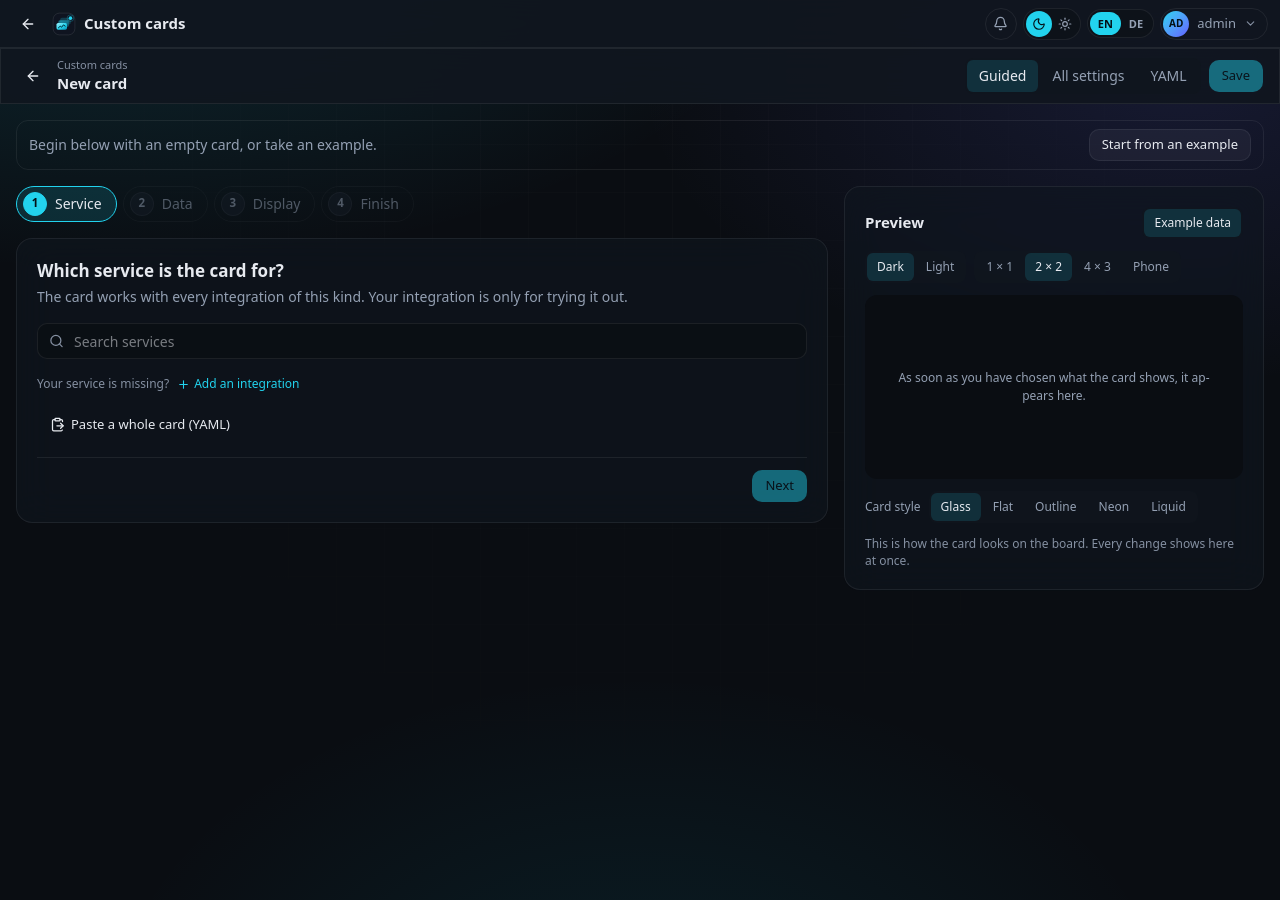
Test: karten19 ac4: the card editor › opens the choice as a new draft with the checked text, installs and saves nothing
Click the button "Start from an example". click: [1170, 145]
box: [1089,129,1251,161]
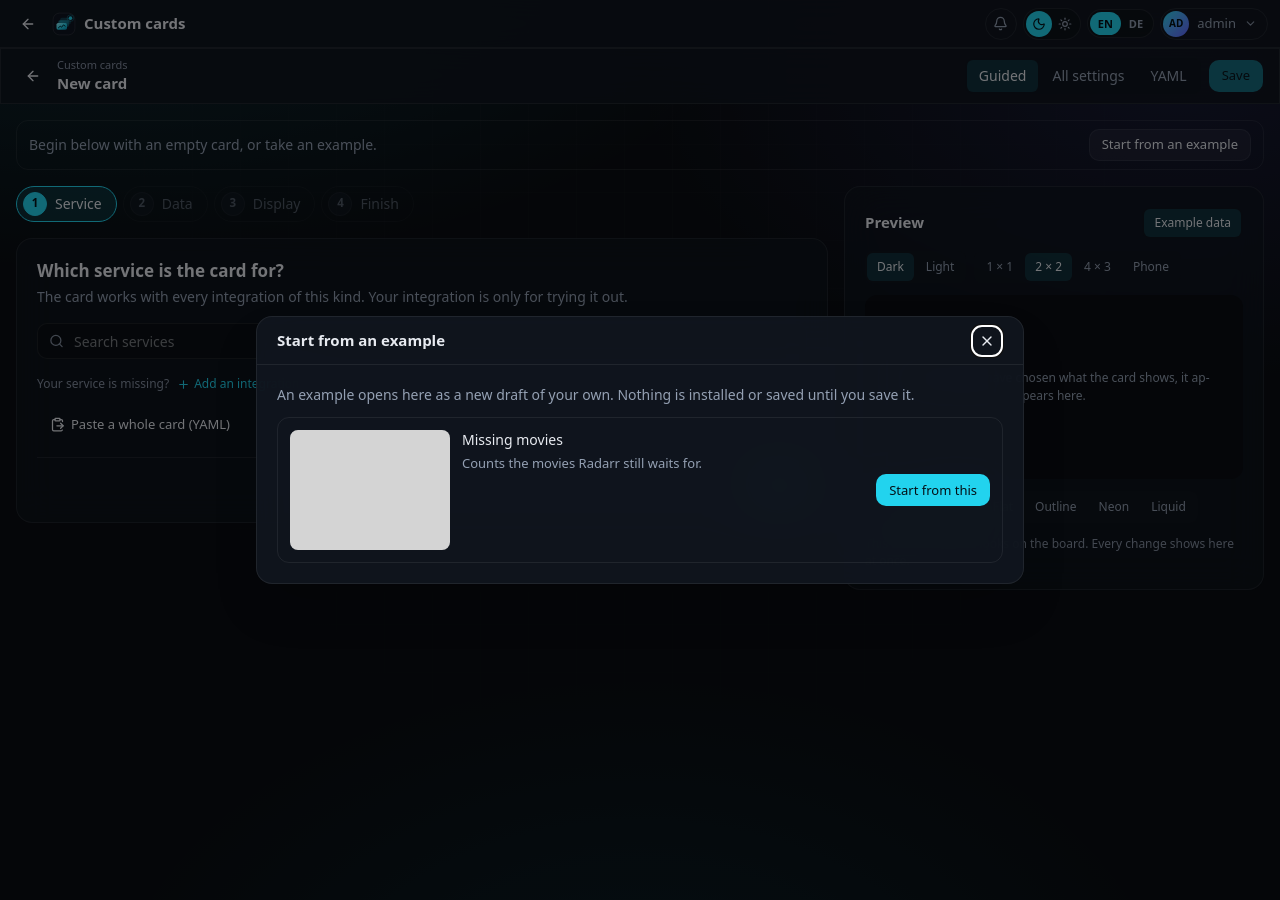
Click the button "Start from this". click: [933, 490]
box: [876,474,990,506]
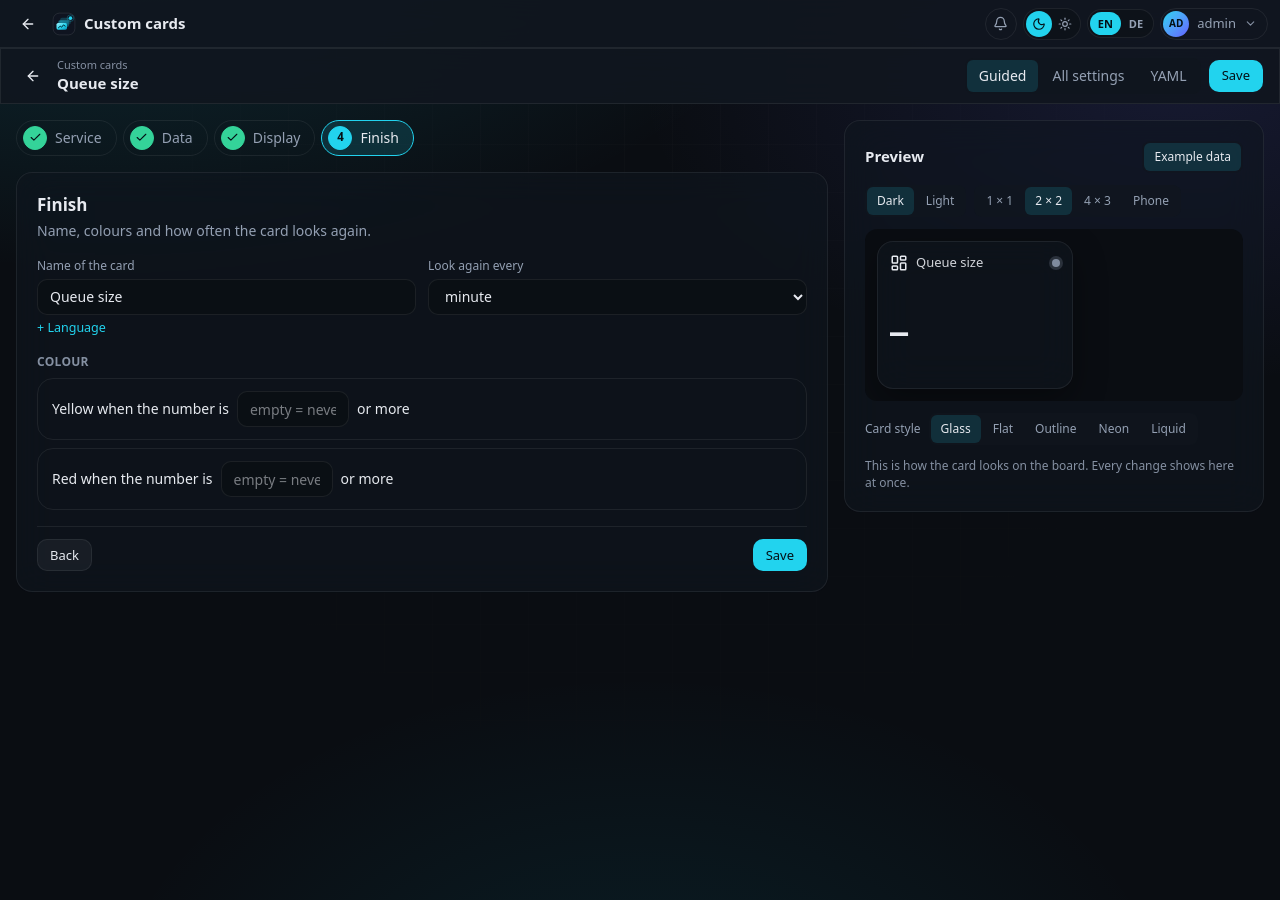
Result: the 1st heading "Queue size" is shown at [57,73,138,93]
Result: the element with test id "example-start" is gone
Result: the dialog is gone
